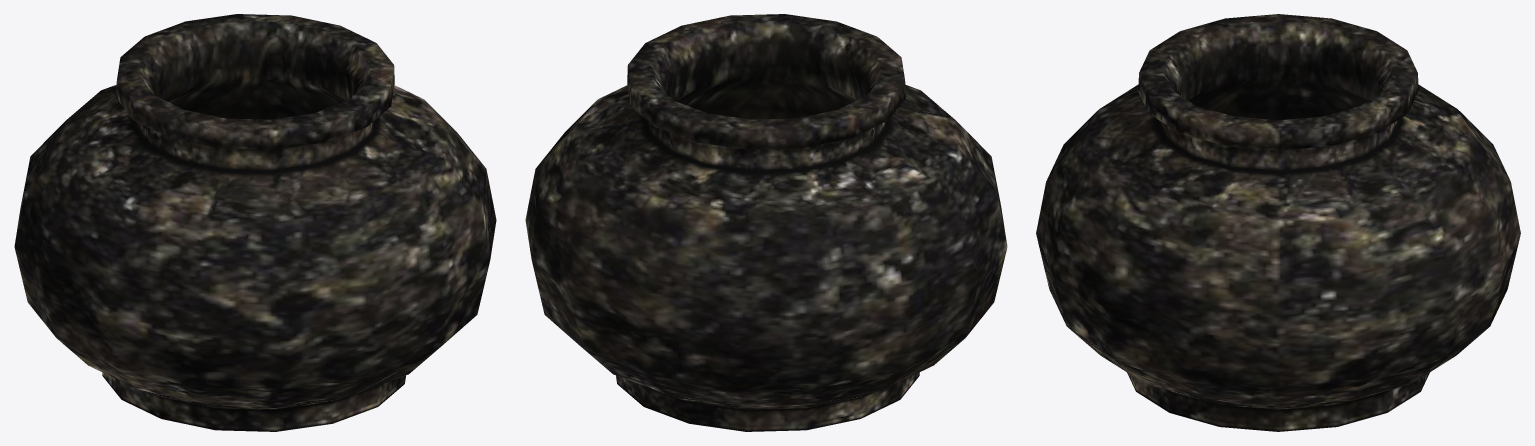
Rendered from Vase02.FBX.
The picture shows the model from 3 angles, left to right: view 1: azimuth 30°, elevation 25°; view 2: azimuth 150°, elevation 25°; view 3: azimuth 270°, elevation 25°; orthographic projection.
Visible parts, largest first — view 1: Vase02; view 2: Vase02; view 3: Vase02.
Part boxes in pixels (x1,y1,x2,y2): Vase02: (14,14,496,431); Vase02: (525,14,1007,431); Vase02: (1036,14,1520,431).
Bounding box in the file's own units: 15.77 × 15.77 × 10.6.
